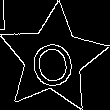O_N: (27, 30, 79, 88)
